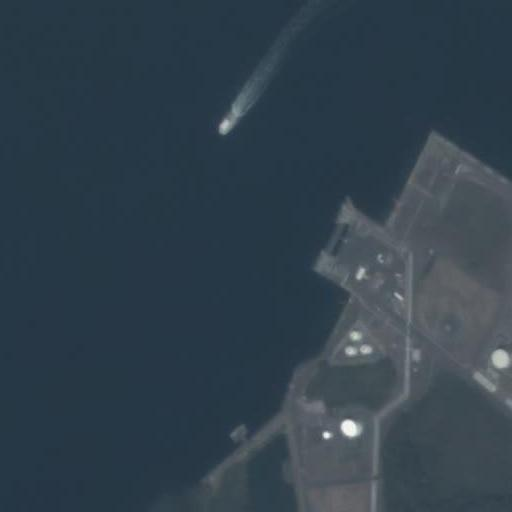person: (218, 119, 231, 135)
